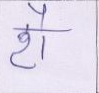ai_matra: (28, 3, 49, 28)
